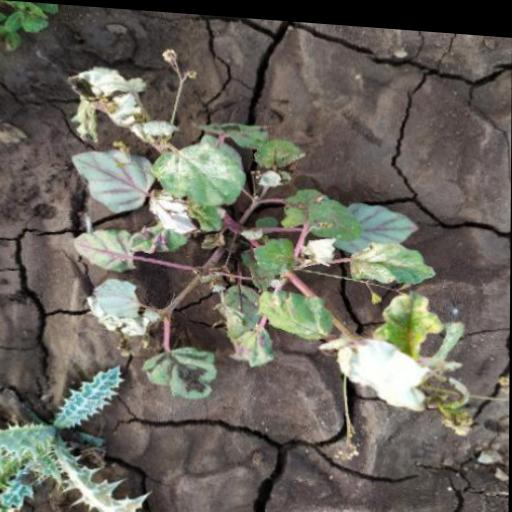weed: (58, 55, 483, 449)
